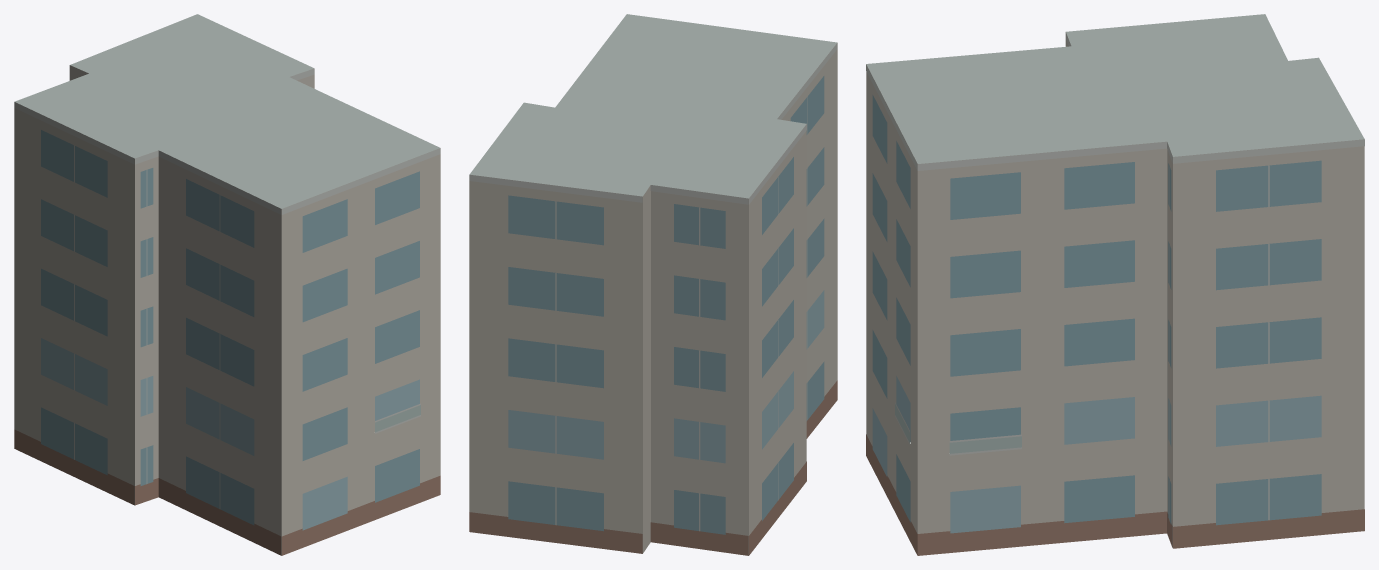
Rendered from survey-upis-32996133.glb.
The picture shows the model from 3 angles, left to right: view 1: azimuth 30°, elevation 25°; view 2: azimuth 150°, elevation 25°; view 3: azimuth 270°, elevation 25°; orthographic projection. The views are drawn at different scales.
Visible parts, largest first — view 1: survey-upis-32996133.tmp; view 2: survey-upis-32996133.tmp; view 3: survey-upis-32996133.tmp.
Part boxes in pixels (x1,y1,x2,y2): survey-upis-32996133.tmp: [14, 14, 440, 555]; survey-upis-32996133.tmp: [469, 14, 837, 555]; survey-upis-32996133.tmp: [866, 14, 1364, 555].
Bounding box in the file's own units: 11.35 × 13.8 × 15.93.
